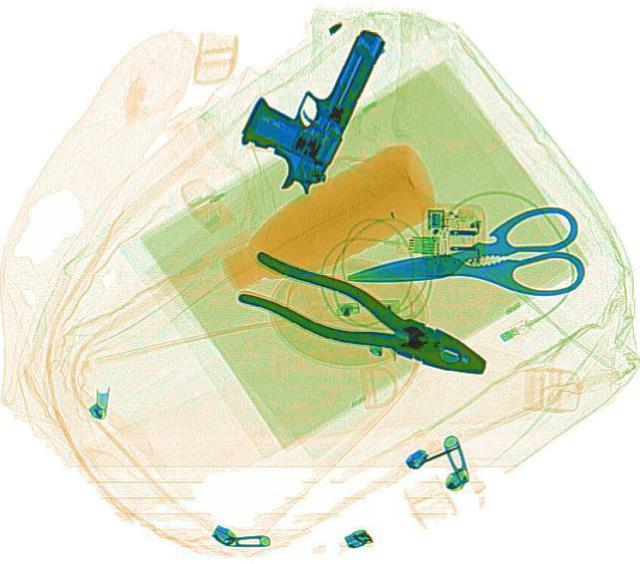Gun: (219, 7, 395, 198)
Pliers: (227, 245, 501, 393)
Scissors: (336, 200, 590, 320)
